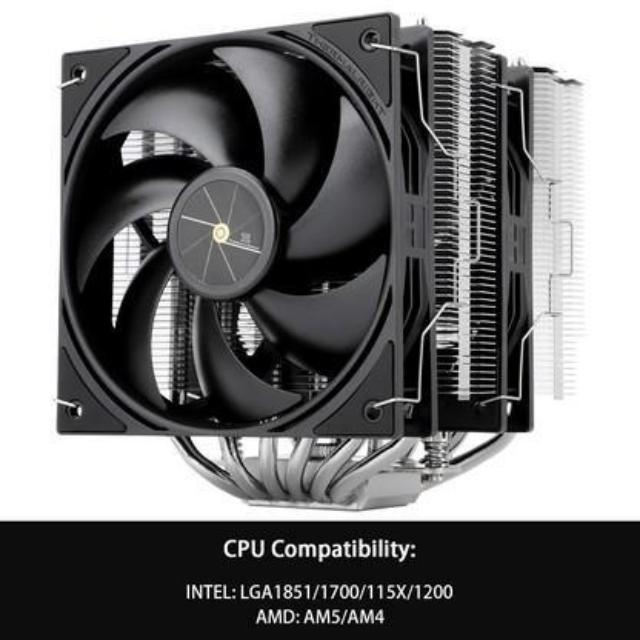CPU_Fan: (52, 8, 580, 510)
